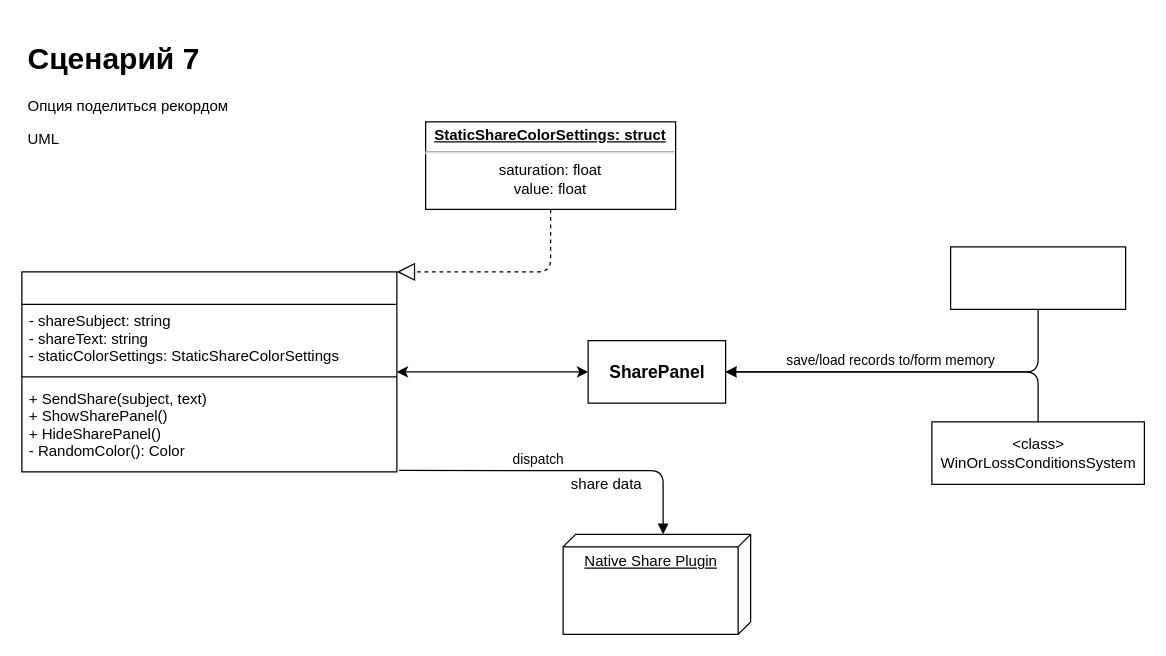
This 1166x656 diagram has some shape labels left out. Each missing label, with the box of its shape:
<class> GameplayChoiseScipt: (949, 246, 1126, 309)
ShareMyScore: (21, 271, 397, 472)
